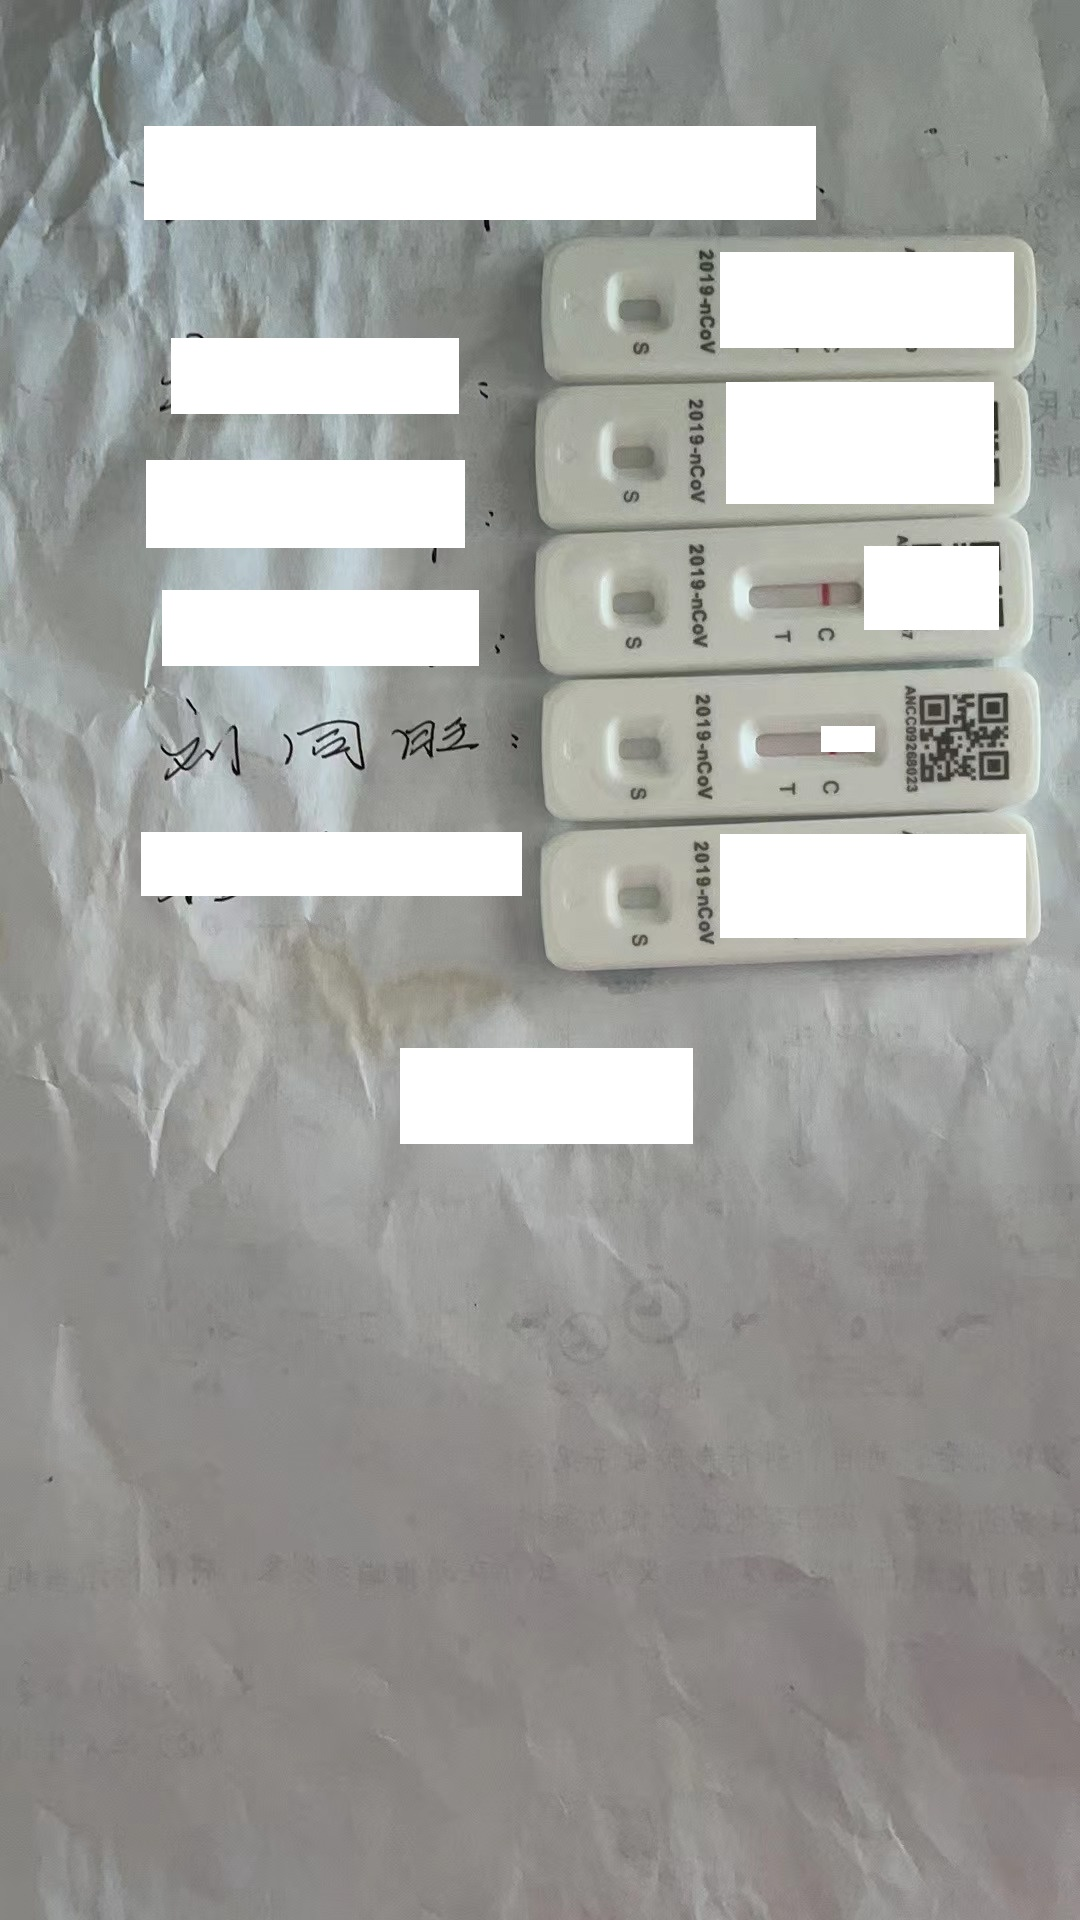negative: (744, 574, 862, 616)
